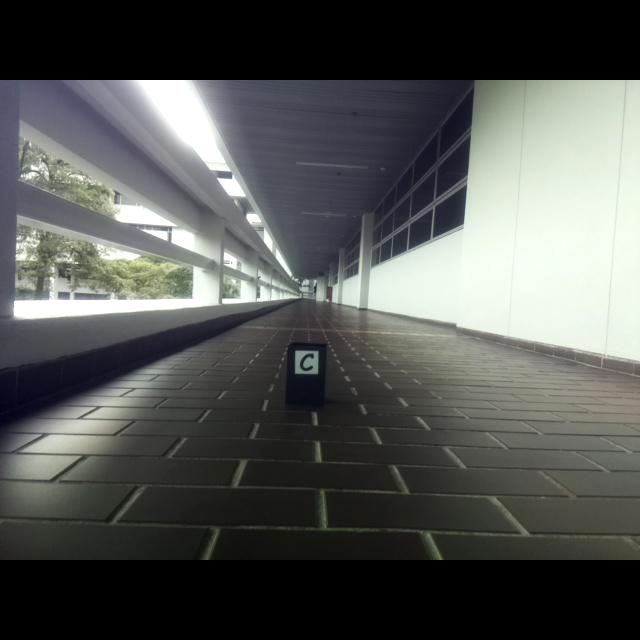C: (300, 354, 315, 372)
